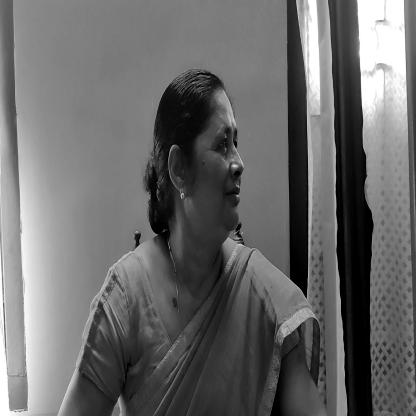Distracted: (150, 75, 250, 243)
